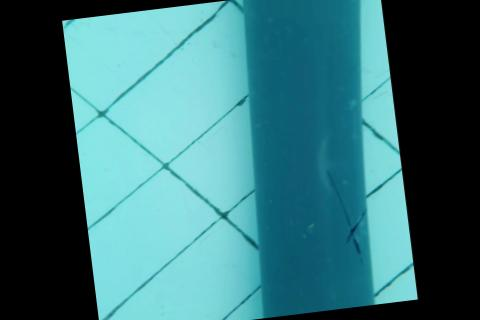keretakan: (328, 171, 370, 256)
